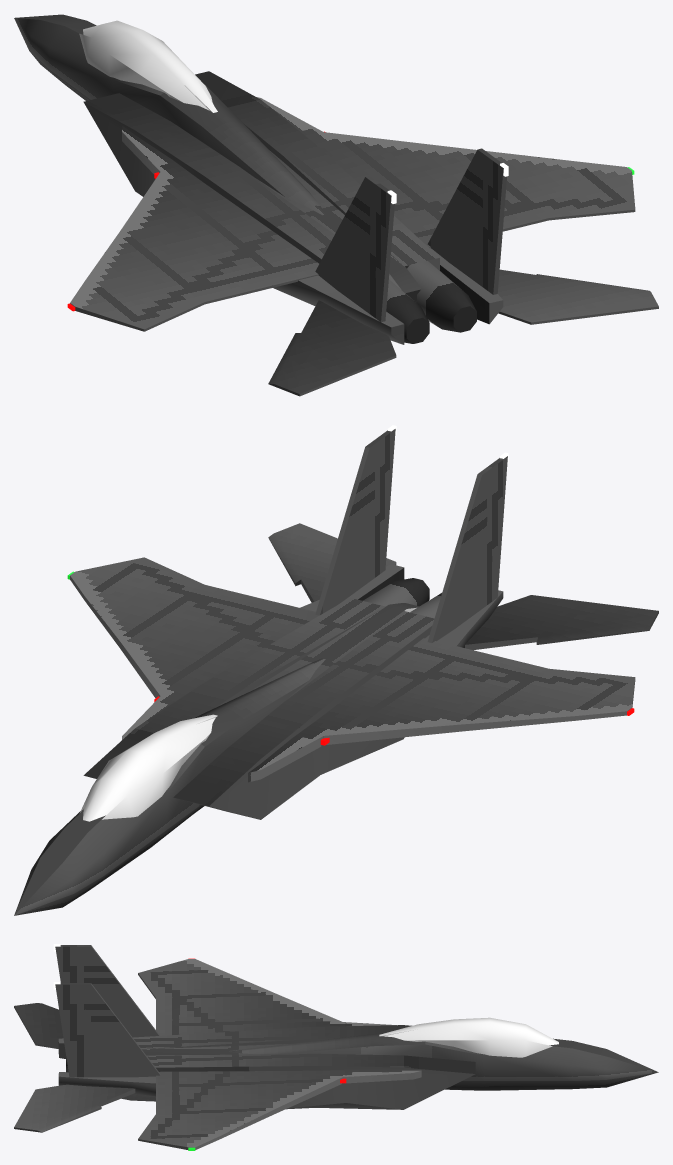
File: low-poly_fighter_jet.glb
3 views of the same model, one above another, from view 1: azimuth 30°, elevation 25°; view 2: azimuth 150°, elevation 25°; view 3: azimuth 270°, elevation 25° (orthographic). The views are drawn at different scales.
Parts seen in each view (by area): view 1: f15_1; view 2: f15_1; view 3: f15_1.
Part boxes in pixels (x1,y1,x2,y2): f15_1: (14,14,658,396); f15_1: (14,429,658,915); f15_1: (14,945,658,1149).
Bounding box in the file's own units: 13.55 × 4.16 × 19.46.
Materials: 4 (4 with a texture image).
